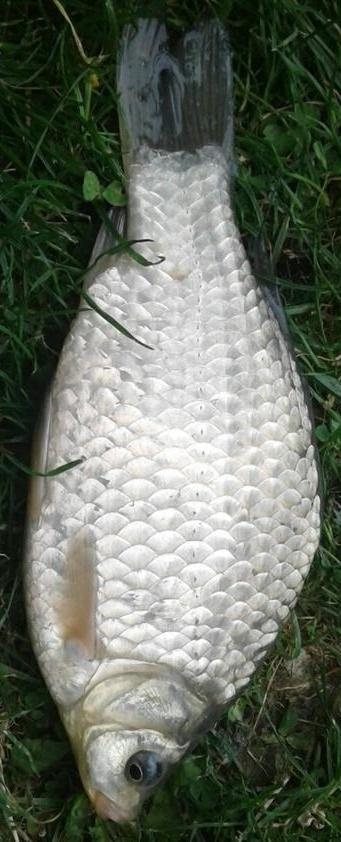Silver Barb: (7, 2, 341, 836)
